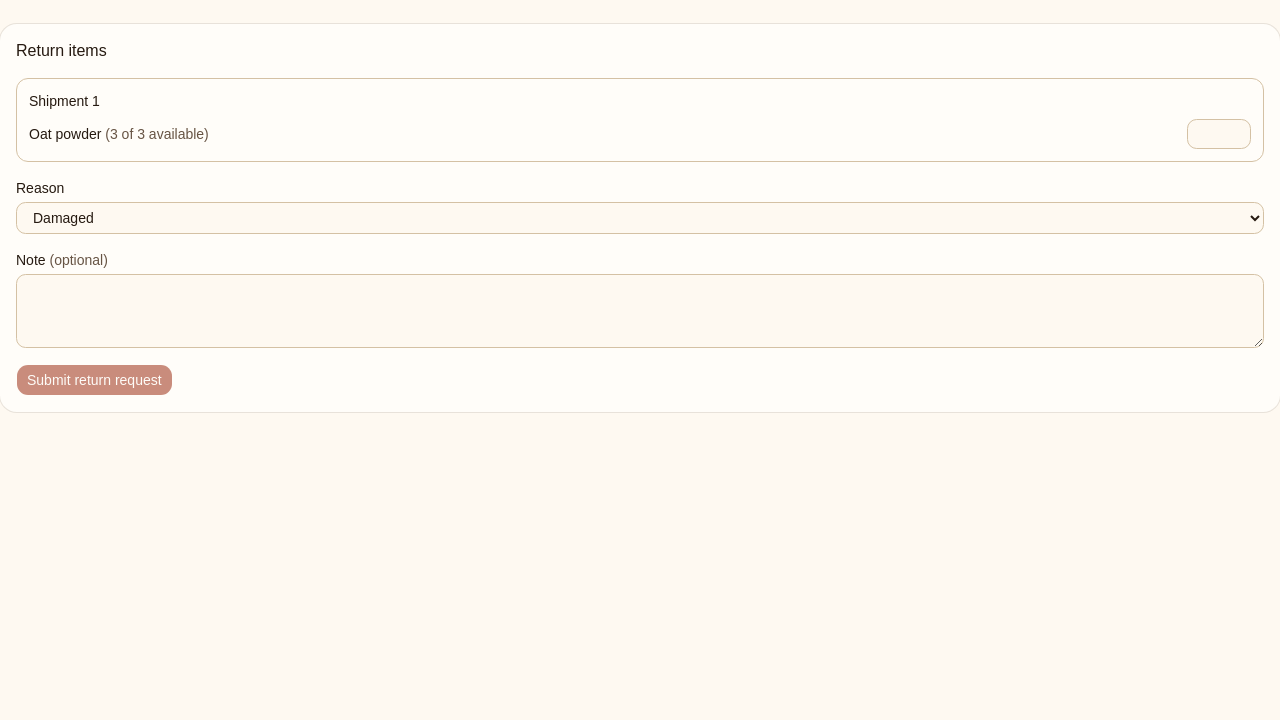
ReturnPanel › focuses first invalid field on validation error
The image size is (1280, 720).
Expected: the text "Oat powder" is shown, [29,126,101,142]
Type "1" into the number field named "Quantity to return for Oat powder". click: (1219, 134)
box: [1187,119,1251,149]
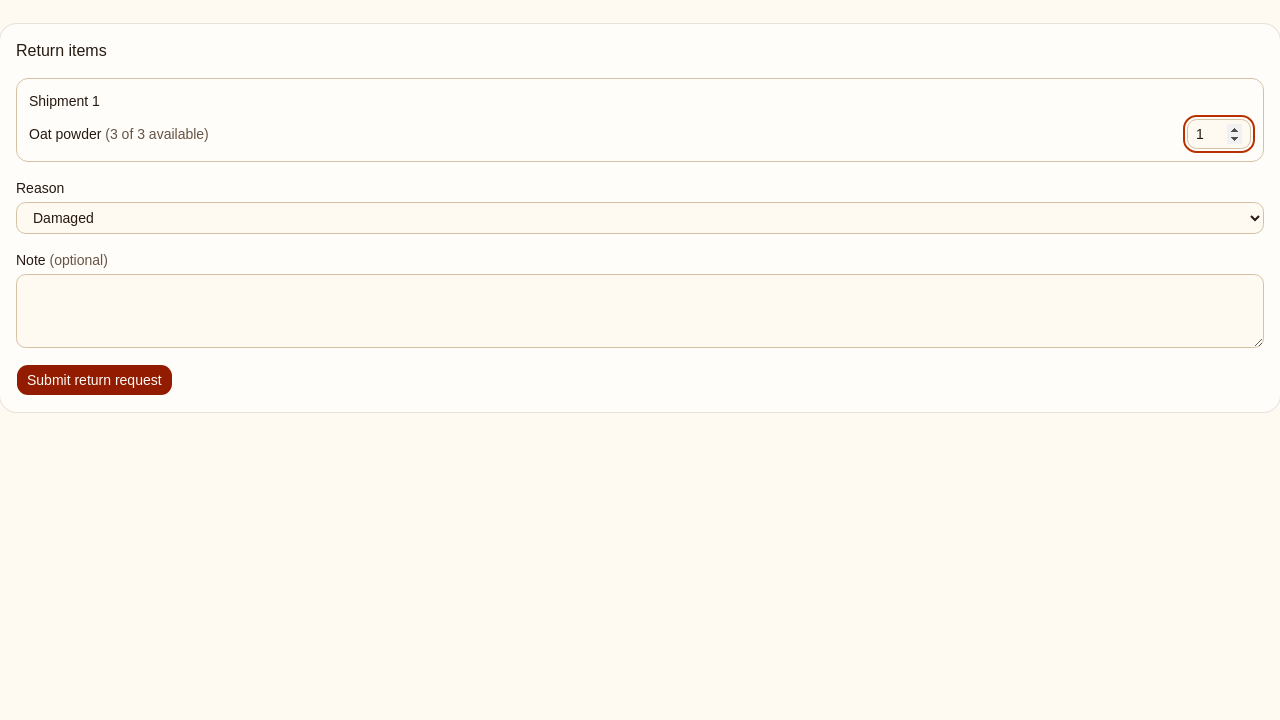
Type markup in note
Type "<b>test</b>" into the text box labelled "Note (optional)". click: (640, 311)
box: [16,274,1264,348]
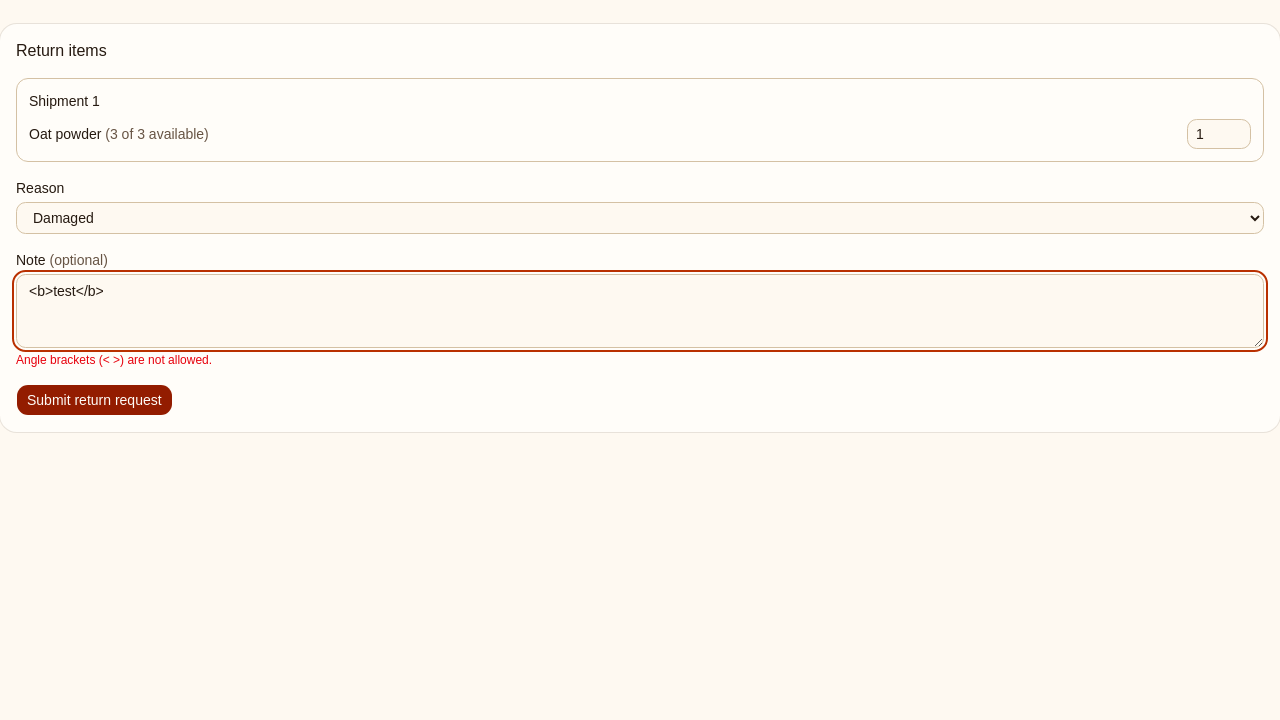
Submit - should show error and focus note textarea
Click the button "Submit return request". click: (94, 400)
box: [16,384,173,416]
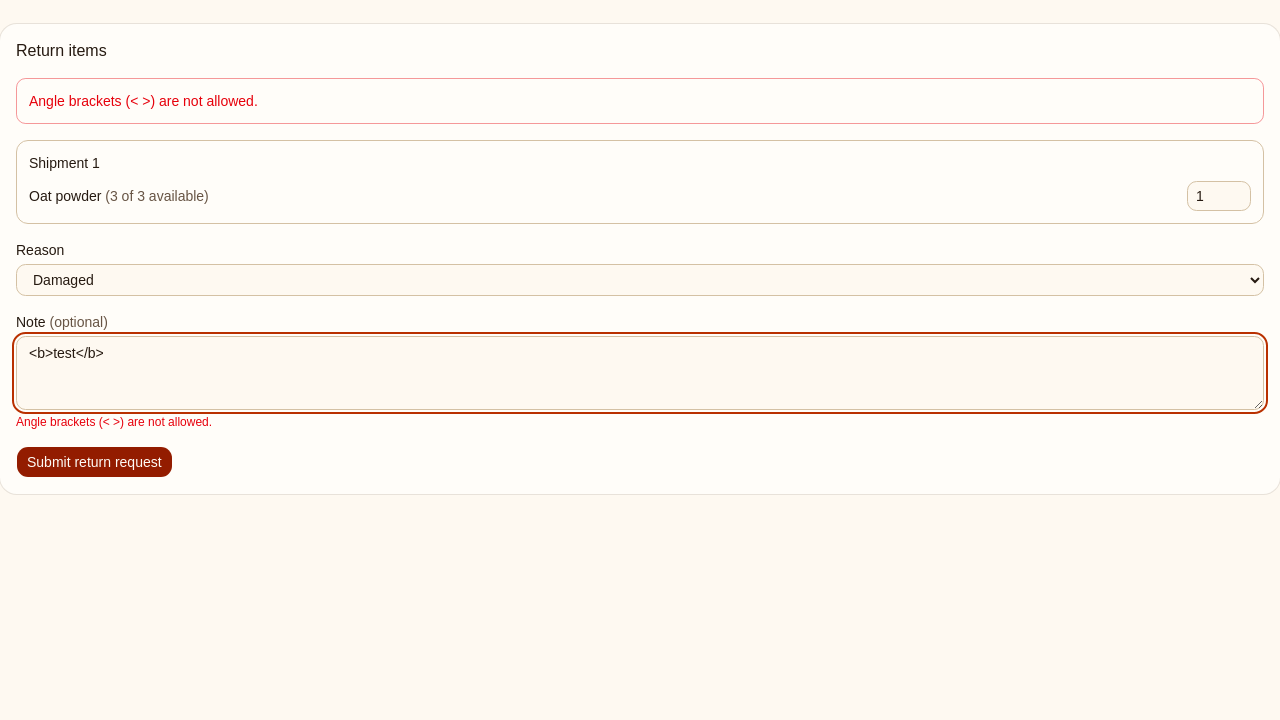
Expected: the message "Angle brackets (< >) are not allowed." is shown, [16,78,1264,124]
Expected: the message shows "Angle brackets", [29,93,258,109]
